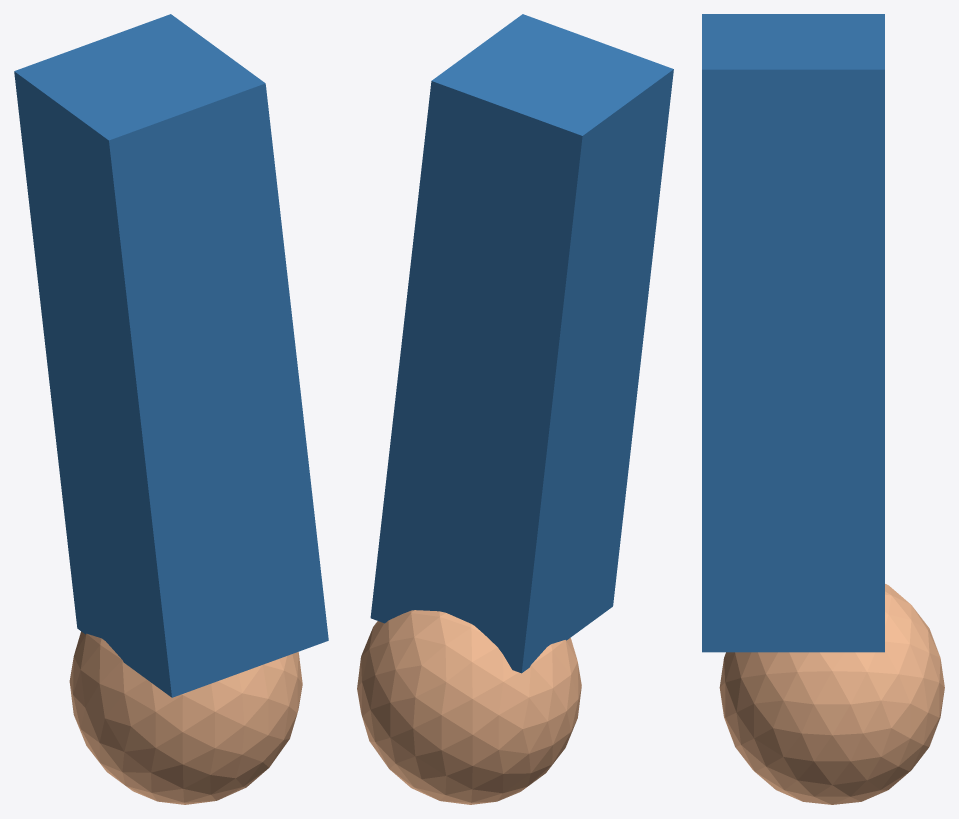
File: TrainerThrowArm.obj
3 renders of one model, left to right at view 1: azimuth 30°, elevation 25°; view 2: azimuth 150°, elevation 25°; view 3: azimuth 270°, elevation 25°, orthographic. The views are drawn at different scales.
Parts seen in each view (by area): view 1: 000_right-arm, 001_right-hand; view 2: 000_right-arm, 001_right-hand; view 3: 000_right-arm, 001_right-hand.
Boxes of the visible parts, x1,y1,x2,y2 form: 000_right-arm: (14,14,328,697); 001_right-hand: (69,631,302,804); 000_right-arm: (370,14,673,673); 001_right-hand: (357,610,581,804); 000_right-arm: (702,14,884,652); 001_right-hand: (719,584,944,804).
Size of the model in its own units: 0.3892 by 1.15 by 0.345.
